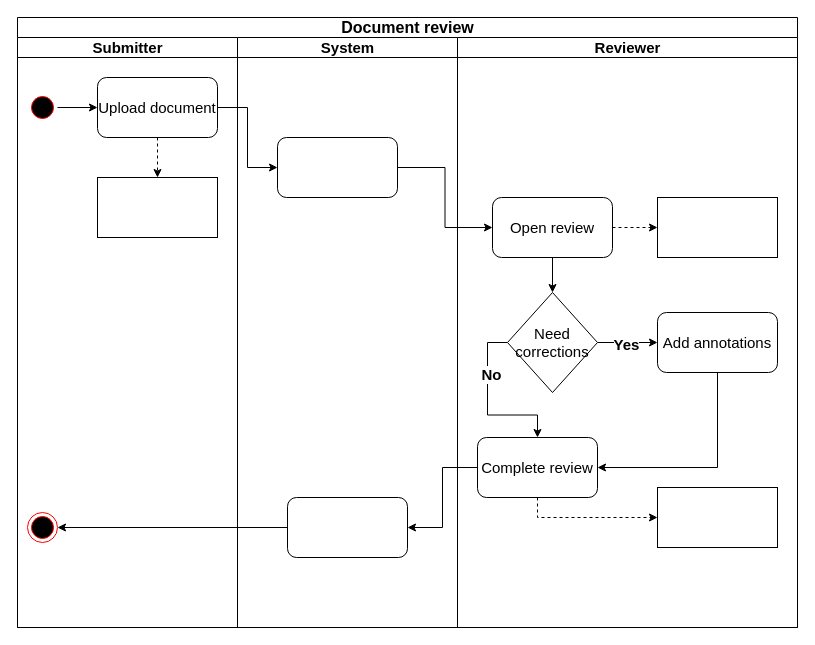
This 815x645 diagram has some shape labels left out. Here are the shapes that lost their labels. From the top down, the centre of each, then its label:
At (337,167): "Notify reviewer".
At (157,207): "Document <<Uploaded>>".
At (717,227): "Document <<On review>>".
At (347,527): "Notify submitter".
At (717,517): "Document <<Reviewed>>".
